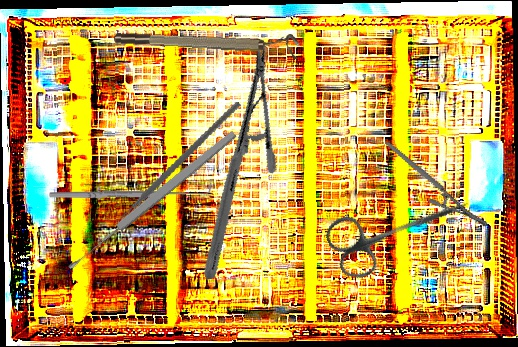Chopper: (101, 77, 242, 246)
Fixation Ring: (113, 22, 301, 59)
Hook Surgical: (48, 182, 213, 201)
Iris Scissors: (321, 171, 479, 285)
Needle Holder: (149, 47, 322, 281), (384, 118, 491, 250)
Surgical Spoon: (64, 128, 239, 273)
